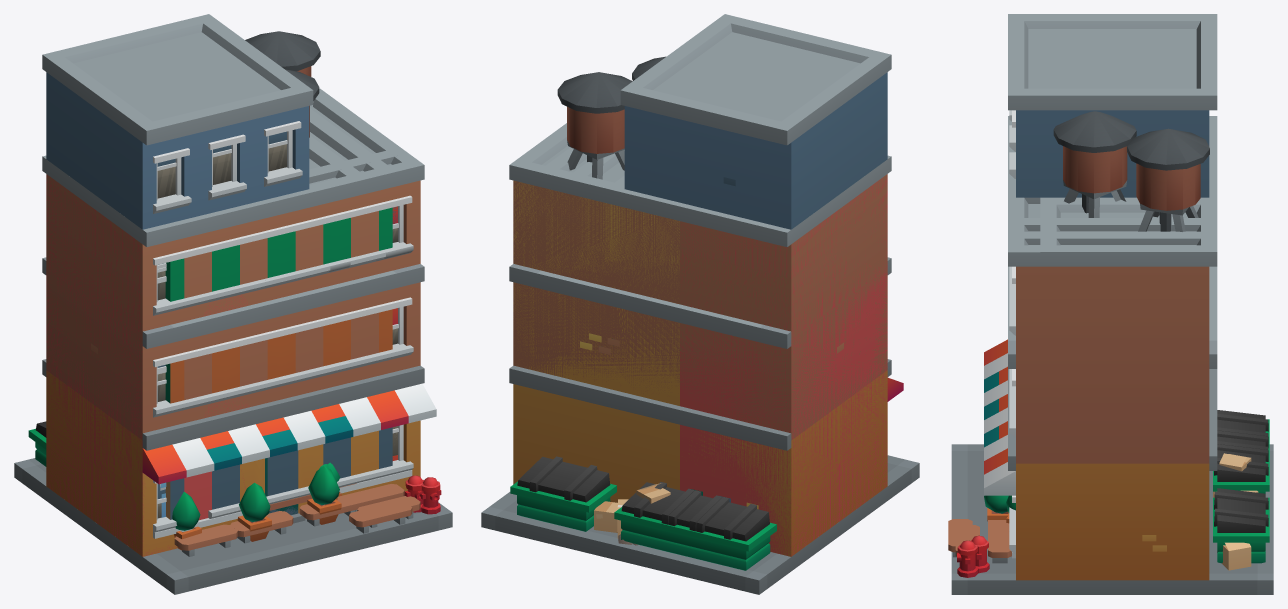
Rendered from city.glb.
The picture shows the model from 3 angles, left to right: view 1: azimuth 30°, elevation 25°; view 2: azimuth 150°, elevation 25°; view 3: azimuth 270°, elevation 25°; orthographic projection.
Visible parts, largest first — view 1: building_E, building_H, building_F, building_D, building_G, building_B, building_A, building_C; view 2: building_E, building_F, building_H, building_D, building_G, building_C, building_B, building_A; view 3: building_E, building_H, building_D, building_C, building_G, building_B, building_F, building_A.
Part boxes in pixels (box(x1,y1,x2,y2)): building_E: box(42, 105, 436, 556); building_H: box(28, 14, 420, 533); building_F: box(46, 175, 424, 556); building_D: box(15, 69, 452, 594); building_G: box(42, 88, 441, 532); building_B: box(170, 270, 396, 543); building_A: box(203, 277, 423, 513); building_C: box(14, 135, 360, 594); building_E: box(509, 146, 903, 556); building_F: box(511, 177, 889, 556); building_H: box(557, 14, 891, 570); building_D: box(482, 56, 918, 580); building_G: box(509, 123, 891, 563); building_C: box(481, 150, 919, 594); building_B: box(537, 270, 763, 547); building_A: box(565, 277, 734, 495); building_E: box(972, 197, 1269, 580); building_H: box(955, 14, 1269, 570); building_D: box(948, 111, 1273, 580); building_C: box(951, 204, 1273, 594); building_G: box(957, 116, 1269, 577); building_B: box(988, 266, 1269, 531); building_F: box(984, 340, 1216, 563); building_A: box(971, 371, 1015, 573).
Size of the model in its own units: 2.01 by 3.11 by 2.02.
1 material, 1 textured.
